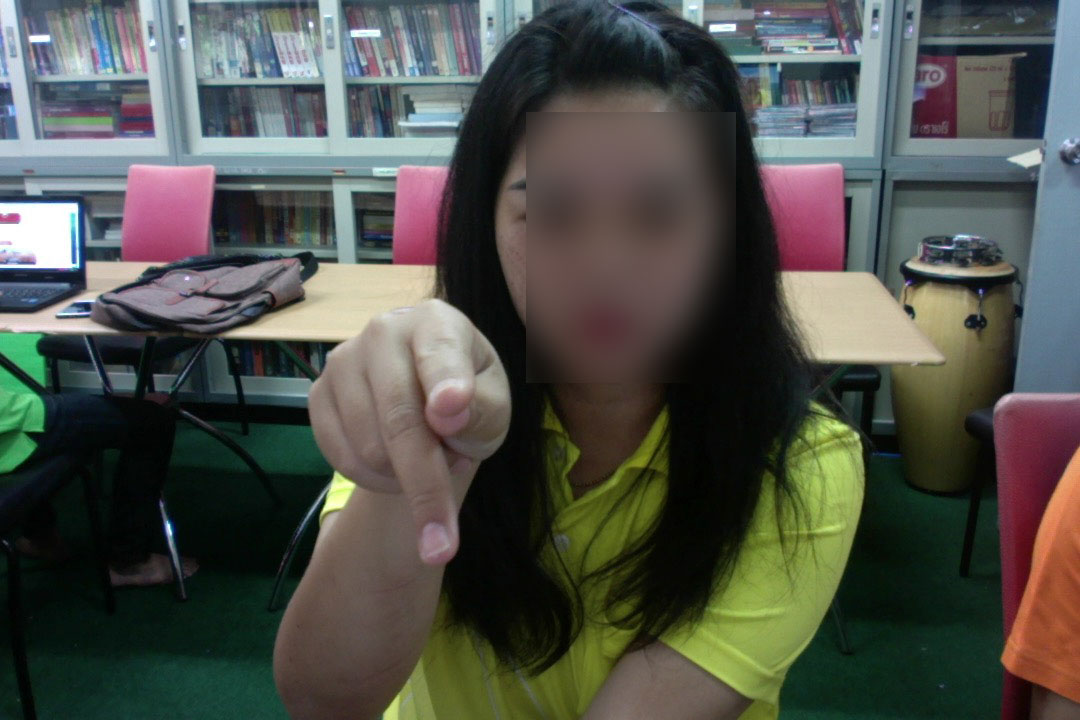por: (297, 297, 512, 564)
